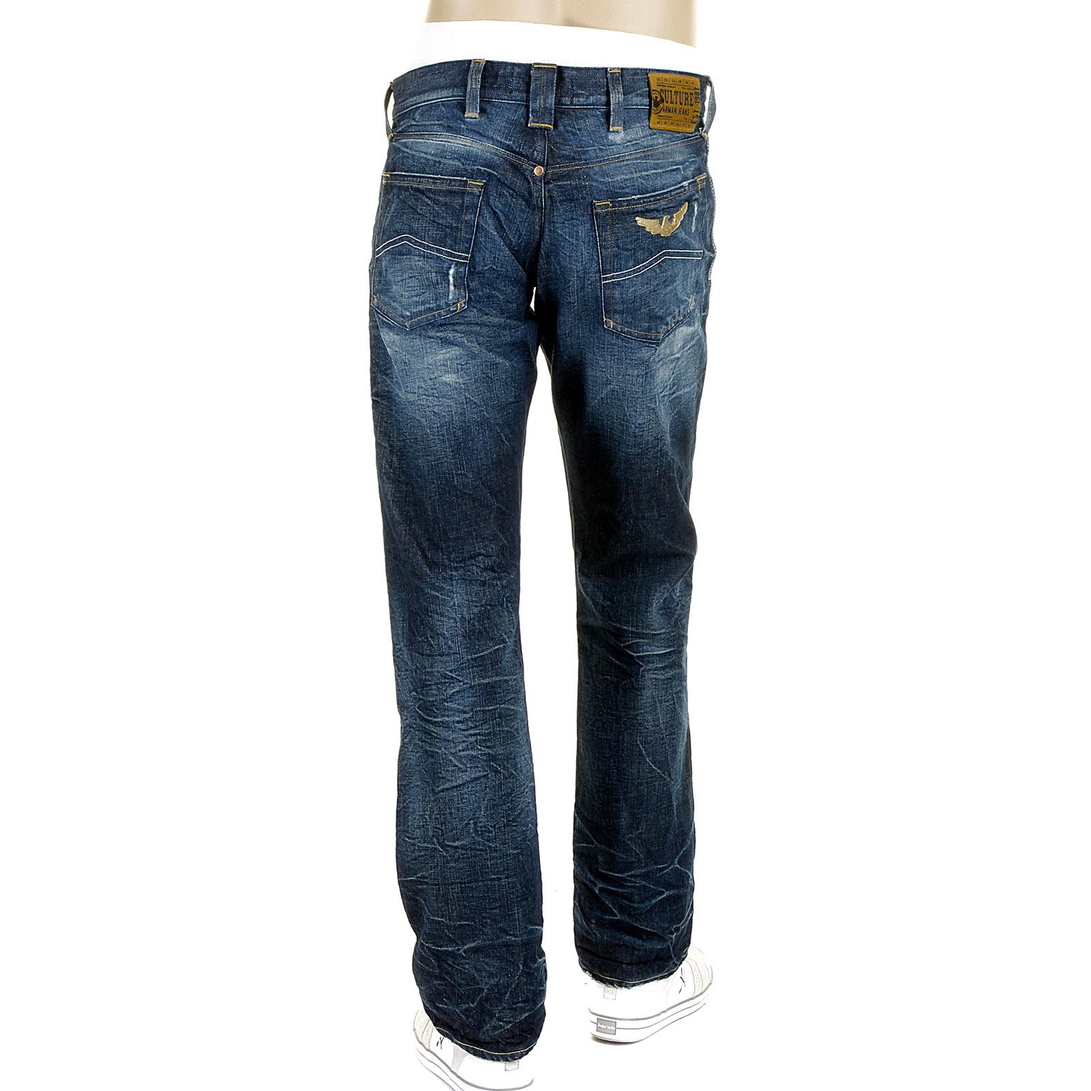Jeans: (356, 50, 723, 1071)
